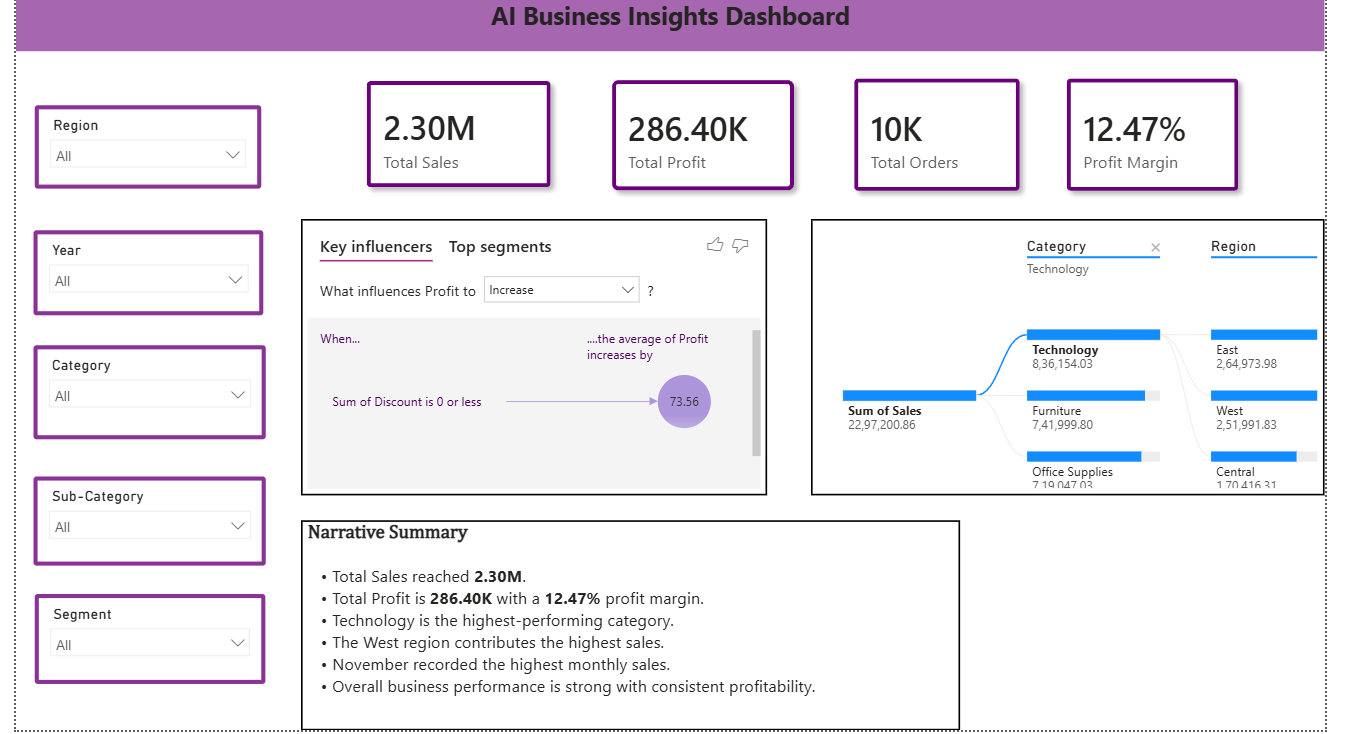

What the dashboard file says about the page in this screenshot:
{"tool":"powerbi","page":{"name":"Page 1","canvas":[1280,720],"ordinal":0},"visuals":[{"type":"shape","box":[0,39.2,263.6,681.4],"z":0},{"type":"cardVisual","title":"Total Sales","fields":{"Data":["Sample-Superstore.Total Sales"]},"box":[300.1,39.2,237.9,162.2],"z":1000},{"type":"cardVisual","title":"Total Profit","fields":{"Data":["Sample-Superstore.Total Profit"]},"box":[538.1,39.2,237.9,162.2],"z":2000},{"type":"clusteredBarChart","title":"Sales by Category","fields":{"Category":["Sample-Superstore.Category"],"Y":["Sum(Sample-Superstore.Sales)"]},"box":[274.3,201.4,325.7,245.7],"z":3000},{"type":"lineChart","title":" Monthly Sales","fields":{"Category":["Sample-Superstore.Month Name"],"Y":["Sum(Sample-Superstore.Sales)"]},"box":[615.1,201.4,332.6,246.1],"z":4000},{"type":"clusteredColumnChart","title":"Profit by Region","fields":{"Category":["Sample-Superstore.Region"],"Y":["Sum(Sample-Superstore.Profit)"]},"box":[965.7,201.4,304.3,245.7],"z":5000},{"type":"map","title":"Regional sales","fields":{"Series":["Sample-Superstore.Region"],"Size":["Sum(Sample-Superstore.Sales)"],"Category":["Sample-Superstore.State"]},"box":[274.3,468.6,325.7,237.1],"z":6000},{"type":"cardVisual","fields":{"Data":["Sample-Superstore.Profit Margin"]},"box":[776,39.2,227.1,162.2],"z":7000},{"type":"cardVisual","fields":{"Data":["Sample-Superstore.Total Orders"]},"box":[1007.2,39.2,220.4,162.2],"z":8000},{"type":"pieChart","title":"Sales by Region","fields":{"Y":["Sum(Sample-Superstore.Sales)"],"Category":["Sample-Superstore.Region"]},"box":[965.7,468.6,304.3,237.1],"z":9000},{"type":"tableEx","fields":{"Values":["Sample-Superstore.Customer Name","Sample-Superstore.Total Profit","Sample-Superstore.Total Sales"]},"box":[615.1,467.8,332.6,236.6],"z":10000},{"type":"textbox","title":"SALES ANALYTICS DASHBOARD","box":[0,0,1280,51.4],"z":11000},{"type":"slicer","fields":{"Values":["Sample-Superstore.Region"]},"box":[23,97.3,221.7,82.5],"z":12000},{"type":"slicer","fields":{"Values":["Sample-Superstore.Year"]},"box":[20.3,213.6,225.8,83.8],"z":13000},{"type":"slicer","fields":{"Values":["Sample-Superstore.Category"]},"box":[18.9,333.9,227.1,91.9],"z":14000},{"type":"slicer","fields":{"Values":["Sample-Superstore.Sub-Category"]},"box":[18.9,467.8,227.1,87.9],"z":15000},{"type":"slicer","fields":{"Values":["Sample-Superstore.Segment"]},"box":[18.9,586.7,225.8,87.9],"z":16000}]}

Visuals, with their boxes on the page's 1280x720 design canvas (x1, y1, x2, y2). These are canvas units, not pixel positions in the 1346x734 screenshot, which may show the page scaled, cropped or inside an application window:
shape: pyautogui.locateOnScreen(0, 39, 264, 721)
"Total Sales" cardVisual: pyautogui.locateOnScreen(300, 39, 538, 201)
"Total Profit" cardVisual: pyautogui.locateOnScreen(538, 39, 776, 201)
"Sales by Category" clusteredBarChart: pyautogui.locateOnScreen(274, 201, 600, 447)
" Monthly Sales" lineChart: pyautogui.locateOnScreen(615, 201, 948, 448)
"Profit by Region" clusteredColumnChart: pyautogui.locateOnScreen(966, 201, 1270, 447)
"Regional sales" map: pyautogui.locateOnScreen(274, 469, 600, 706)
cardVisual - Sample-Superstore.Profit Margin: pyautogui.locateOnScreen(776, 39, 1003, 201)
cardVisual - Sample-Superstore.Total Orders: pyautogui.locateOnScreen(1007, 39, 1228, 201)
"Sales by Region" pieChart: pyautogui.locateOnScreen(966, 469, 1270, 706)
tableEx - Sample-Superstore.Customer Name x Sample-Superstore.Total Profit: pyautogui.locateOnScreen(615, 468, 948, 704)
"SALES ANALYTICS DASHBOARD" textbox: pyautogui.locateOnScreen(0, 0, 1280, 51)
slicer - Sample-Superstore.Region: pyautogui.locateOnScreen(23, 97, 245, 180)
slicer - Sample-Superstore.Year: pyautogui.locateOnScreen(20, 214, 246, 297)
slicer - Sample-Superstore.Category: pyautogui.locateOnScreen(19, 334, 246, 426)
slicer - Sample-Superstore.Sub-Category: pyautogui.locateOnScreen(19, 468, 246, 556)
slicer - Sample-Superstore.Segment: pyautogui.locateOnScreen(19, 587, 245, 675)
